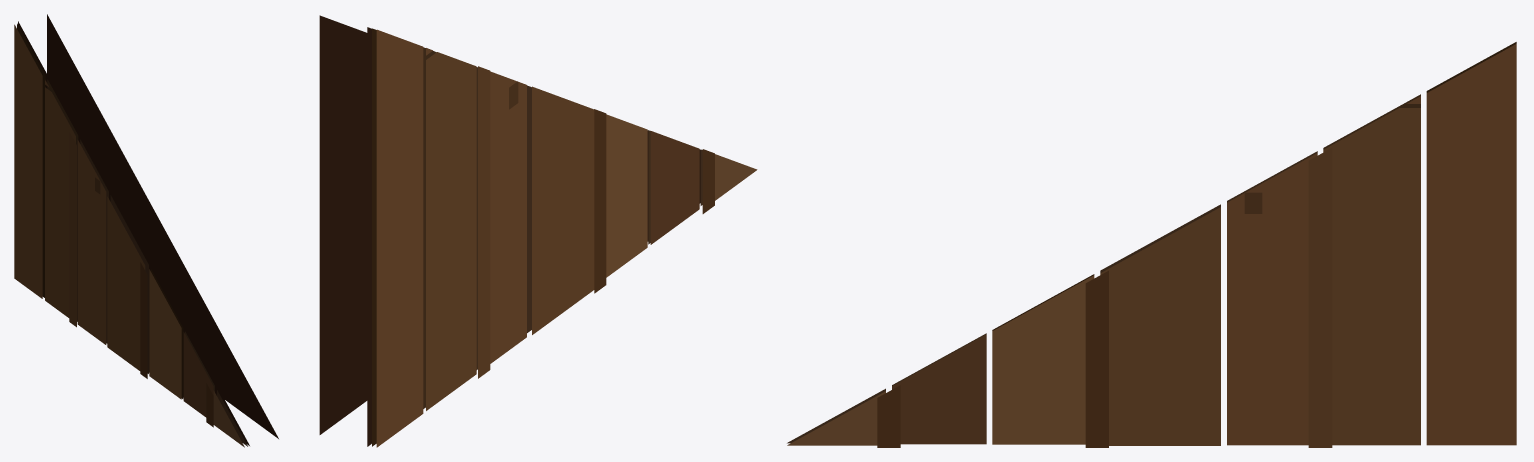
Rendered from wall-timber-gable-r.glb.
The picture shows the model from 3 angles, left to right: view 1: azimuth 30°, elevation 25°; view 2: azimuth 150°, elevation 25°; view 3: azimuth 270°, elevation 25°; orthographic projection. The views are drawn at different scales.
Parts seen in each view (by area): view 1: wall-timber-gable-r; view 2: wall-timber-gable-r; view 3: wall-timber-gable-r.
Boxes of the visible parts, <box> form: wall-timber-gable-r: <box>14,14,278,447</box>; wall-timber-gable-r: <box>319,15,757,447</box>; wall-timber-gable-r: <box>787,42,1516,447</box>.
Bounding box in the file's own units: 0.112 × 0.607 × 1.
